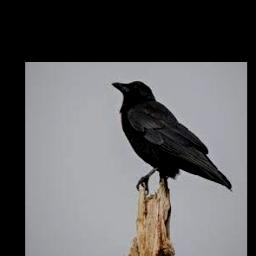Crow: (109, 80, 231, 192)
